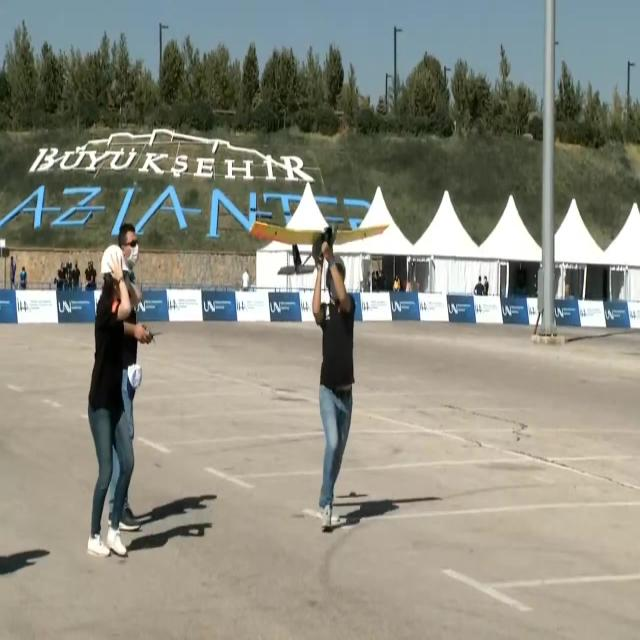iha: (247, 220, 391, 275)
